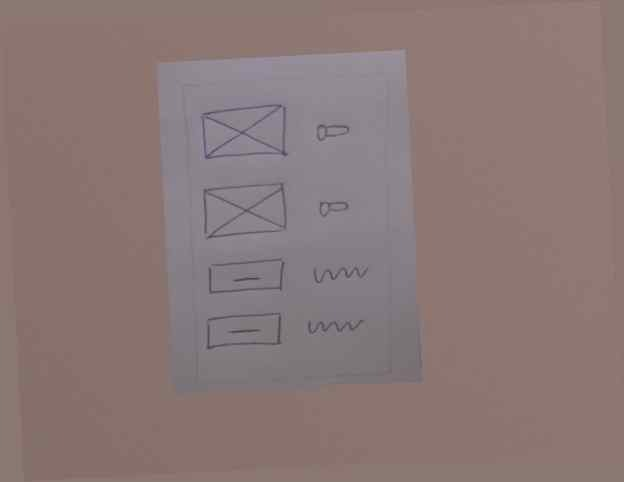button: (202, 254, 290, 299), (201, 308, 288, 353)
image: (197, 101, 293, 167), (197, 177, 293, 243)
switch: (313, 116, 354, 148), (313, 190, 354, 222)
text: (307, 257, 375, 293), (303, 311, 370, 342)
